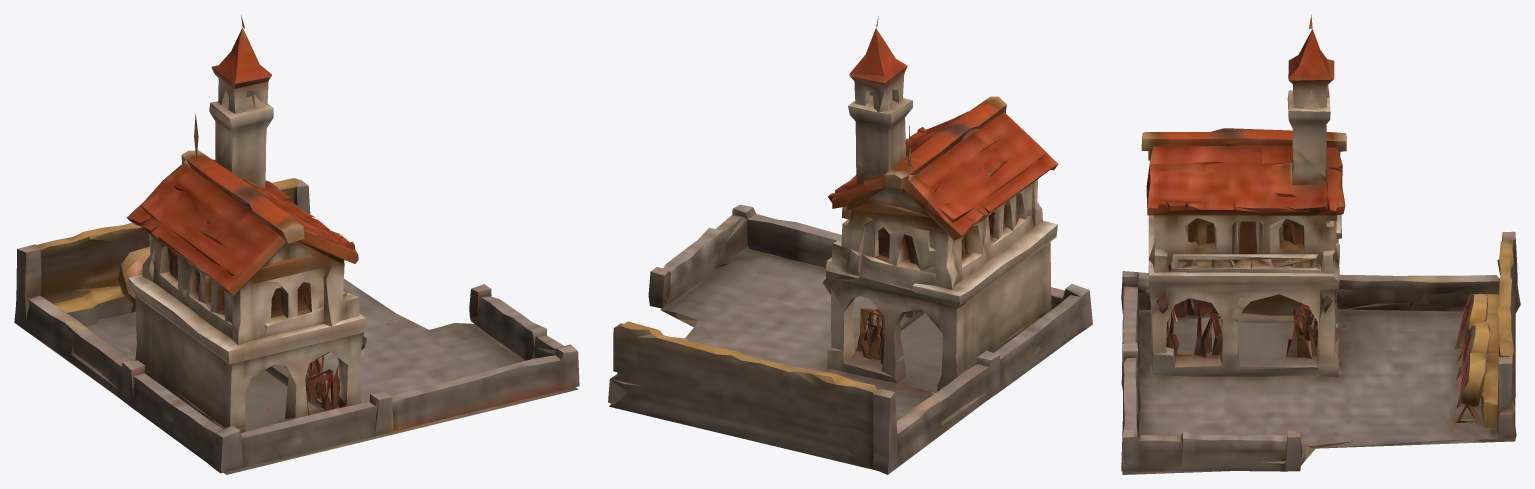
The model's file is archery2.lod2.glb.
3 views of the same model, side by side, from view 1: azimuth 30°, elevation 25°; view 2: azimuth 150°, elevation 25°; view 3: azimuth 270°, elevation 25° (orthographic). The views are drawn at different scales.
Parts seen in each view (by area): view 1: archery2.lod2_uv; view 2: archery2.lod2_uv; view 3: archery2.lod2_uv.
Part boxes in pixels (bbox=[...]): archery2.lod2_uv: bbox=[14, 15, 579, 474]; archery2.lod2_uv: bbox=[608, 16, 1092, 474]; archery2.lod2_uv: bbox=[1121, 14, 1520, 474].
Size of the model in its own units: 1.88 by 1.81 by 1.88.
Materials: 1 (1 with a texture image).
